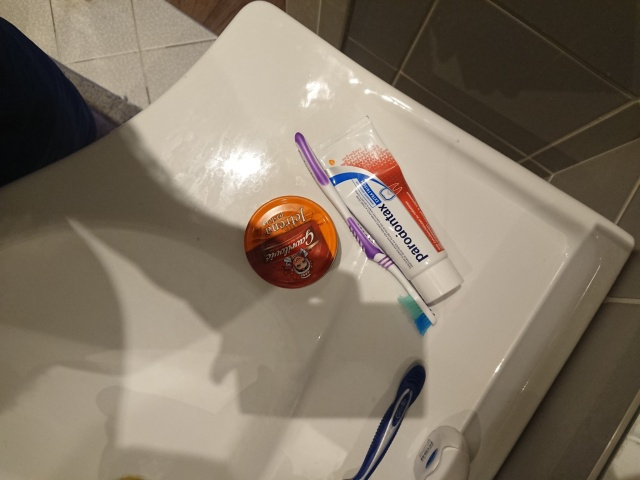Gavrilovic Pork Liver Pate 100g: (242, 192, 340, 290)
